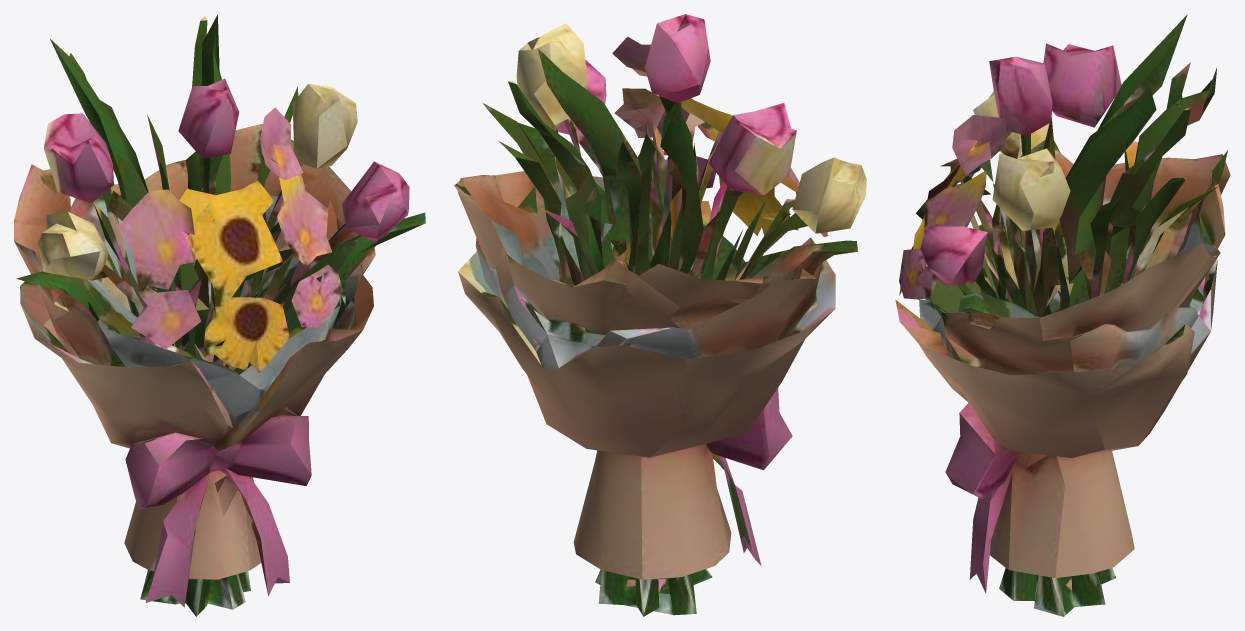
The model's file is bouquet.glb.
3 views of the same model, side by side, from view 1: azimuth 30°, elevation 25°; view 2: azimuth 150°, elevation 25°; view 3: azimuth 270°, elevation 25° (orthographic). The views are drawn at different scales.
Parts seen in each view (by area): view 1: bouquet; view 2: bouquet; view 3: bouquet.
Part boxes in pixels (x1,y1,x2,y2): bouquet: (14,14,425,616); bouquet: (454,14,866,616); bouquet: (895,14,1230,616).
Size of the model in its own units: 0.7248 by 1 by 0.5643.
Materials: 1 (1 with a texture image).
